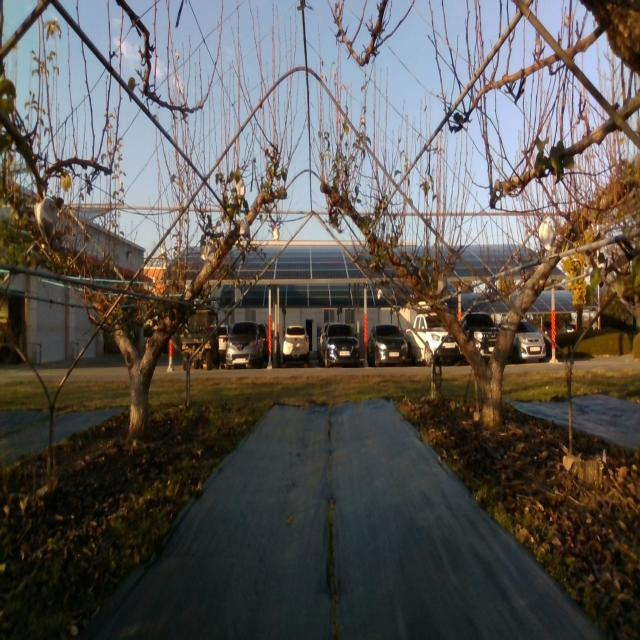pearbags: (34, 196, 58, 242), (538, 222, 554, 248), (204, 241, 217, 262), (236, 178, 246, 200), (240, 219, 250, 237)
